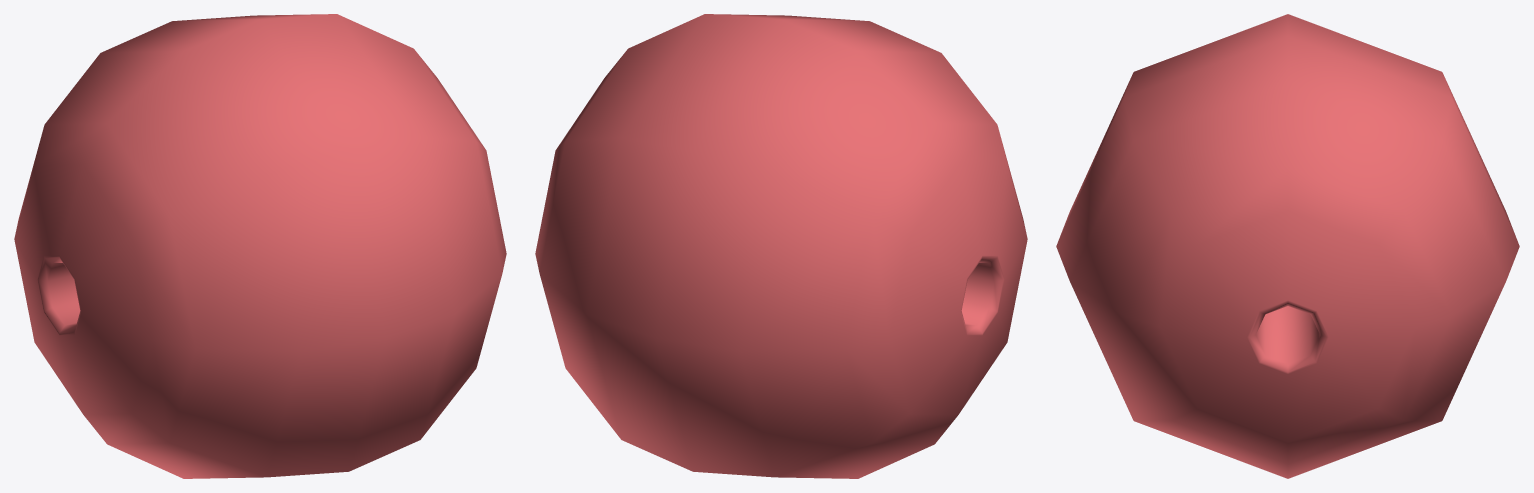
Rendered from bead_circle.fbx.
3 renders of one model, left to right at view 1: azimuth 30°, elevation 25°; view 2: azimuth 150°, elevation 25°; view 3: azimuth 270°, elevation 25°, orthographic. The views are drawn at different scales.
Parts seen in each view (by area): view 1: bead_circle; view 2: bead_circle; view 3: bead_circle.
Part boxes in pixels (<box>): bead_circle: <box>14,14,506,478</box>; bead_circle: <box>535,14,1027,478</box>; bead_circle: <box>1056,14,1519,478</box>.
Size of the model in its own units: 1.85 by 2 by 2.
